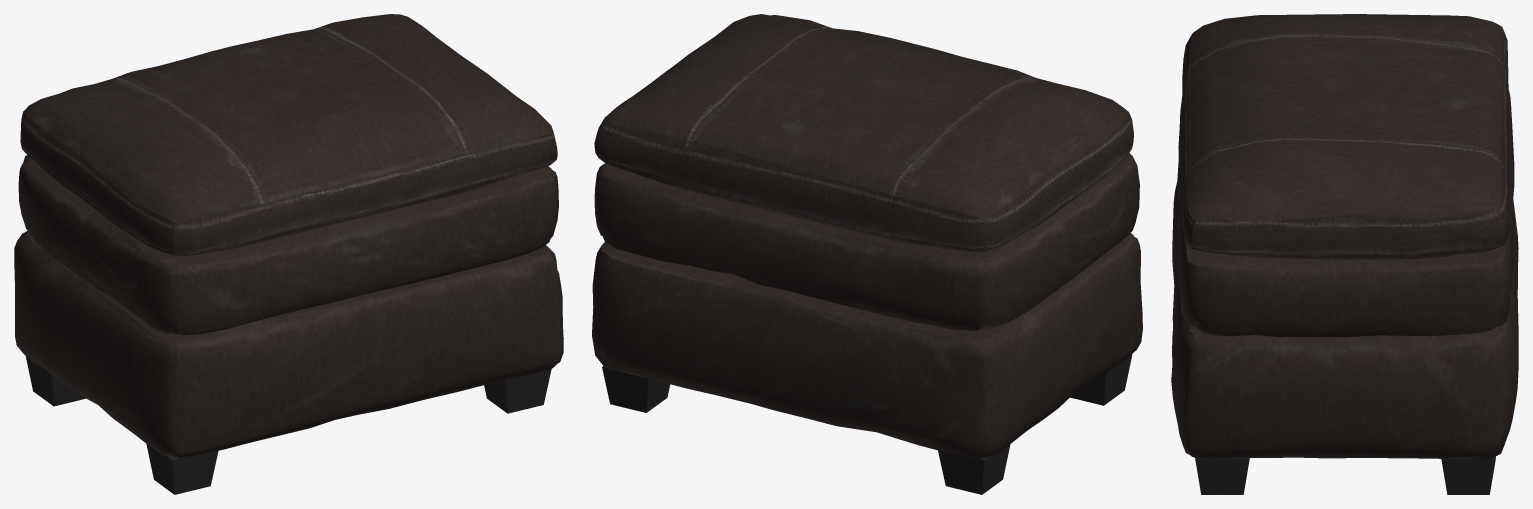
Rendered from ottoman.glb.
3 renders of one model, left to right at view 1: azimuth 30°, elevation 25°; view 2: azimuth 150°, elevation 25°; view 3: azimuth 270°, elevation 25°, orthographic.
Visible parts, largest first — view 1: Ottoman_01; view 2: Ottoman_01; view 3: Ottoman_01.
Boxes of the visible parts, x1=… form: Ottoman_01: x1=14, y1=14, x2=563, y2=494; Ottoman_01: x1=592, y1=14, x2=1142, y2=494; Ottoman_01: x1=1171, y1=14, x2=1518, y2=494.
Size of the model in its own units: 0.8842 by 0.6243 by 0.6211.
Materials: 1 (1 with a texture image).
